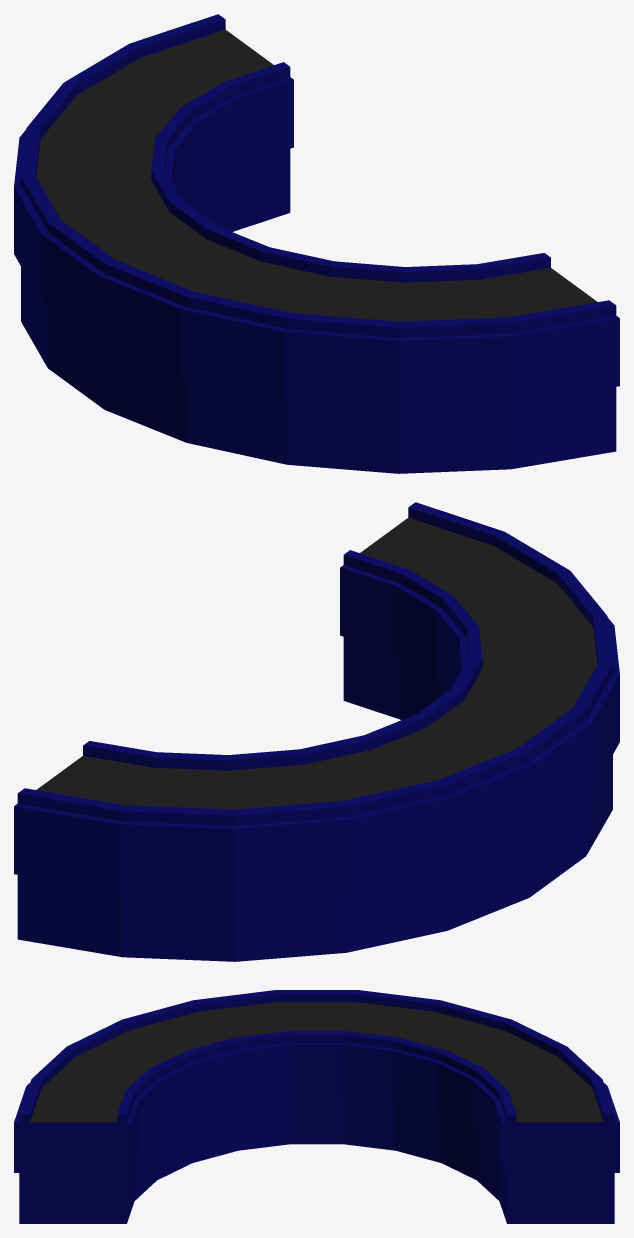
The picture shows the model from 3 angles, top to bottom: view 1: azimuth 30°, elevation 25°; view 2: azimuth 150°, elevation 25°; view 3: azimuth 270°, elevation 25°; orthographic projection. The views are drawn at different scales.
Parts seen in each view (by area): view 1: Cube.000 (×2); view 2: Cube.000 (×2); view 3: Cube.000 (×2).
Part boxes in pixels (box(x1,y1,x2,y2)): Cube.000 (×2): box(14, 14, 619, 473); Cube.000 (×2): box(14, 502, 619, 961); Cube.000 (×2): box(14, 990, 619, 1223).
Size of the model in its own units: 0.9898 by 0.3977 by 2.
